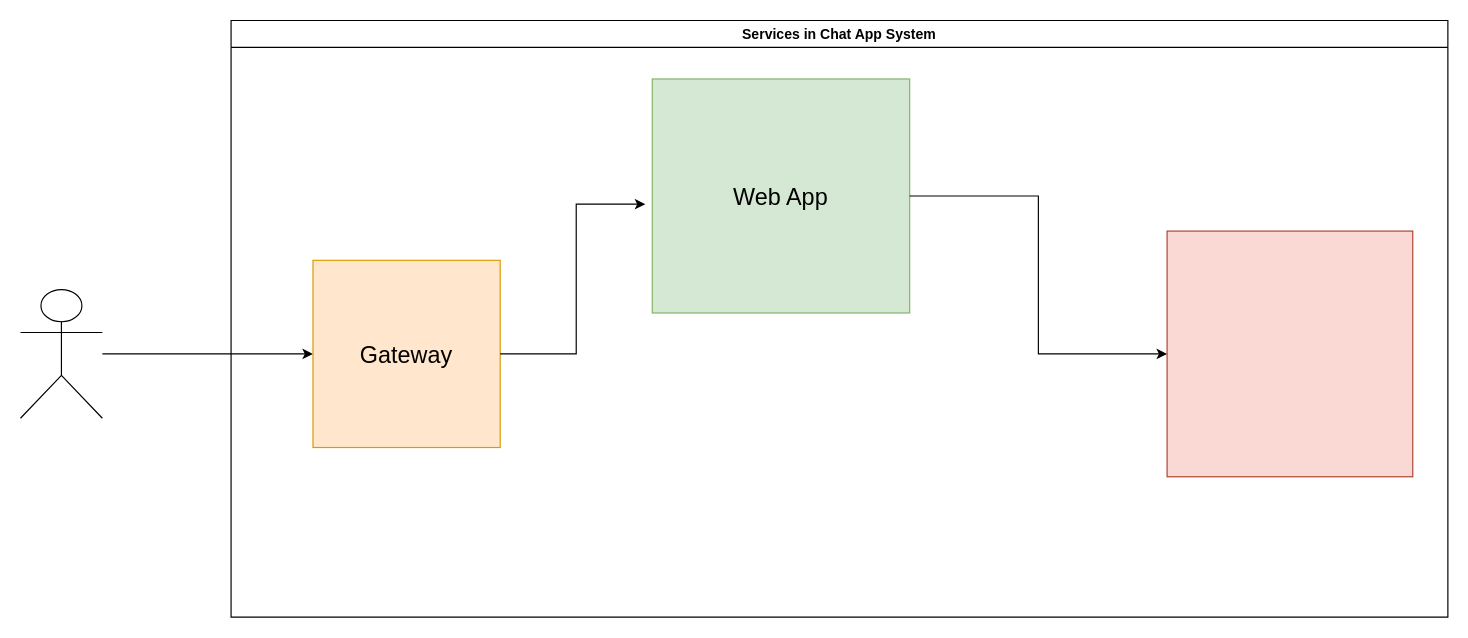
The diagram is 1468 pixels wide and 638 high, and some of its shapes have lost their labels. The centre of each missing label's shape, as x and y in pixels:
Backend Micro Services: (x=1289, y=353)
Chat Users: (x=60, y=353)
